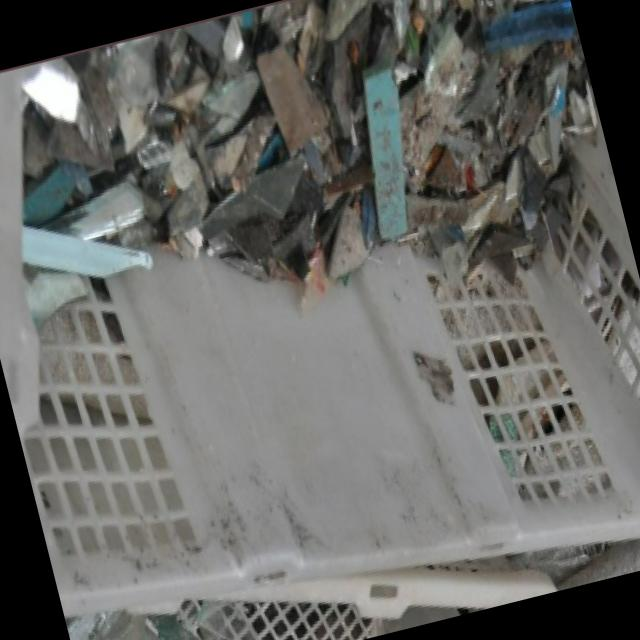PecahanKaca: (0, 0, 633, 396)
